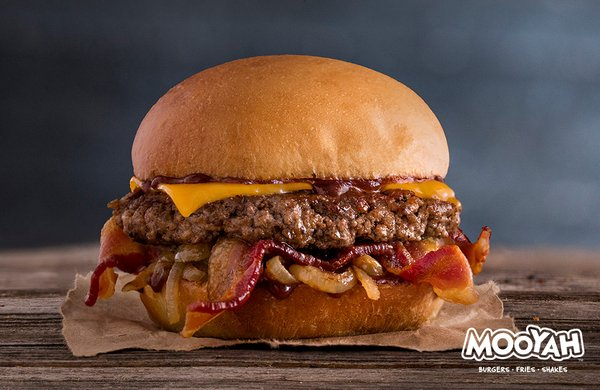soup: (75, 55, 503, 342)
